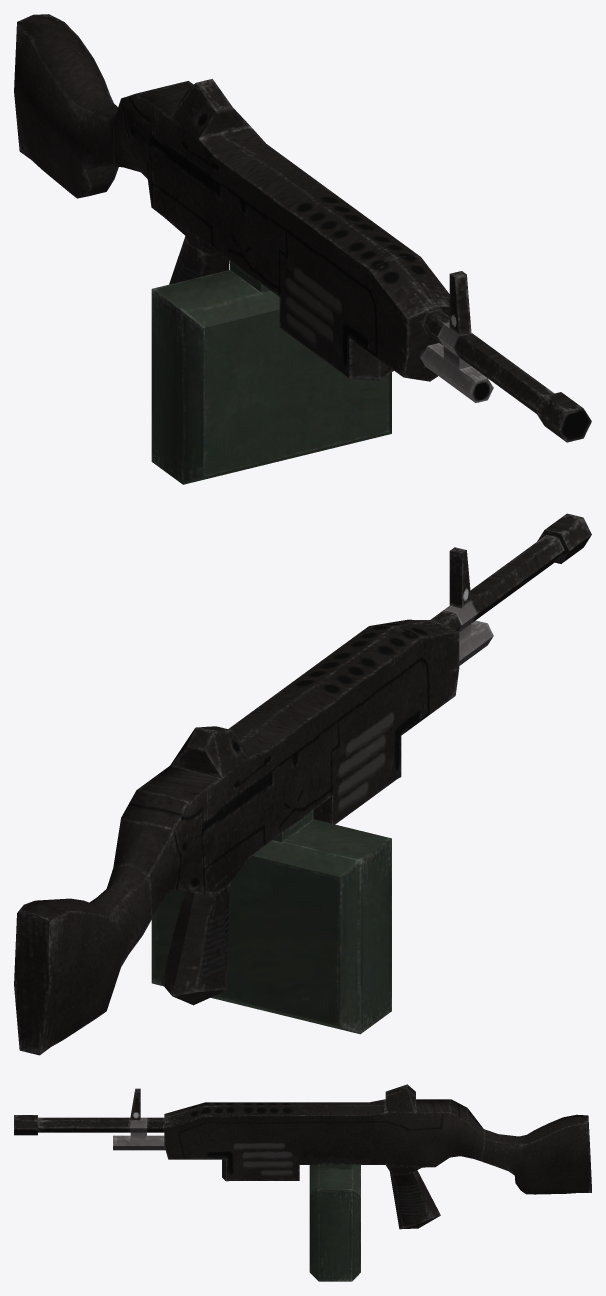
Rendered from Props_Machinegun_1.FBX.
3 renders of one model, top to bottom at view 1: azimuth 30°, elevation 25°; view 2: azimuth 150°, elevation 25°; view 3: azimuth 270°, elevation 25°, orthographic. The views are drawn at different scales.
Visible parts, largest first — view 1: Machinegun_1; view 2: Machinegun_1; view 3: Machinegun_1.
Part boxes in pixels (x1,y1,x2,y2): Machinegun_1: [14, 14, 591, 484]; Machinegun_1: [14, 513, 591, 1055]; Machinegun_1: [14, 1084, 591, 1281].
Bounding box in the file's own units: 49.93 × 72.55 × 226.
Materials: 1 (1 with a texture image).
